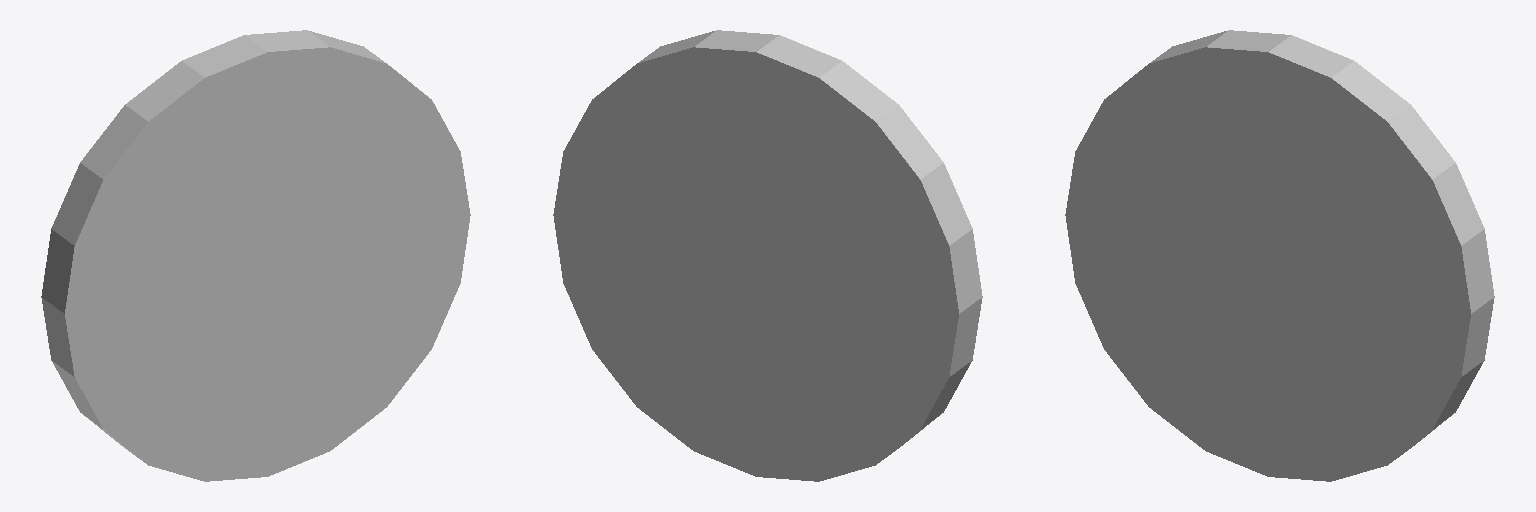
File: ghostpowerup.obj
The picture shows the model from 3 angles: view 1: azimuth 30°, elevation 25°; view 2: azimuth 150°, elevation 25°; view 3: azimuth 330°, elevation 25°; orthographic projection.
Bounding box in the file's own units: 4 × 4 × 0.4.